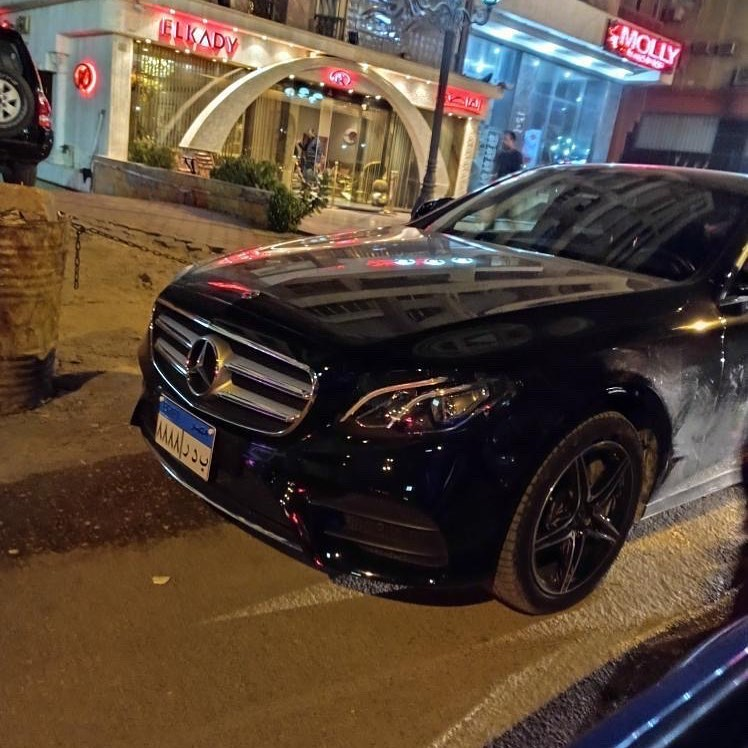carpl: (152, 412, 220, 479)
